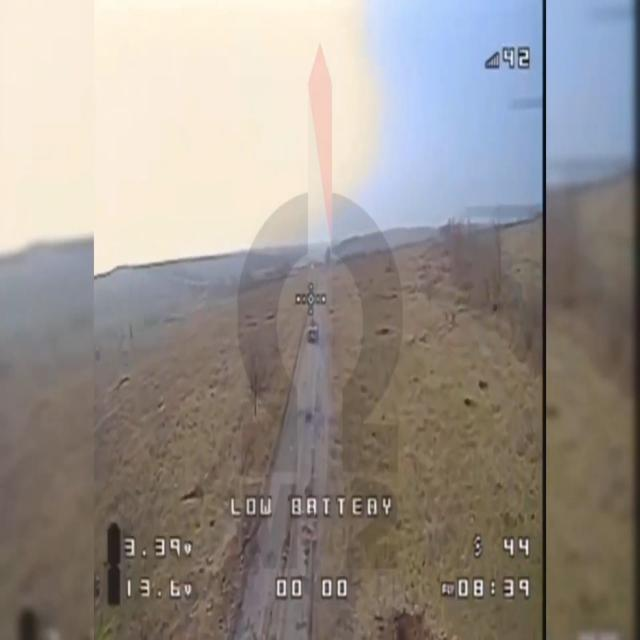apc: (308, 322, 320, 343)
